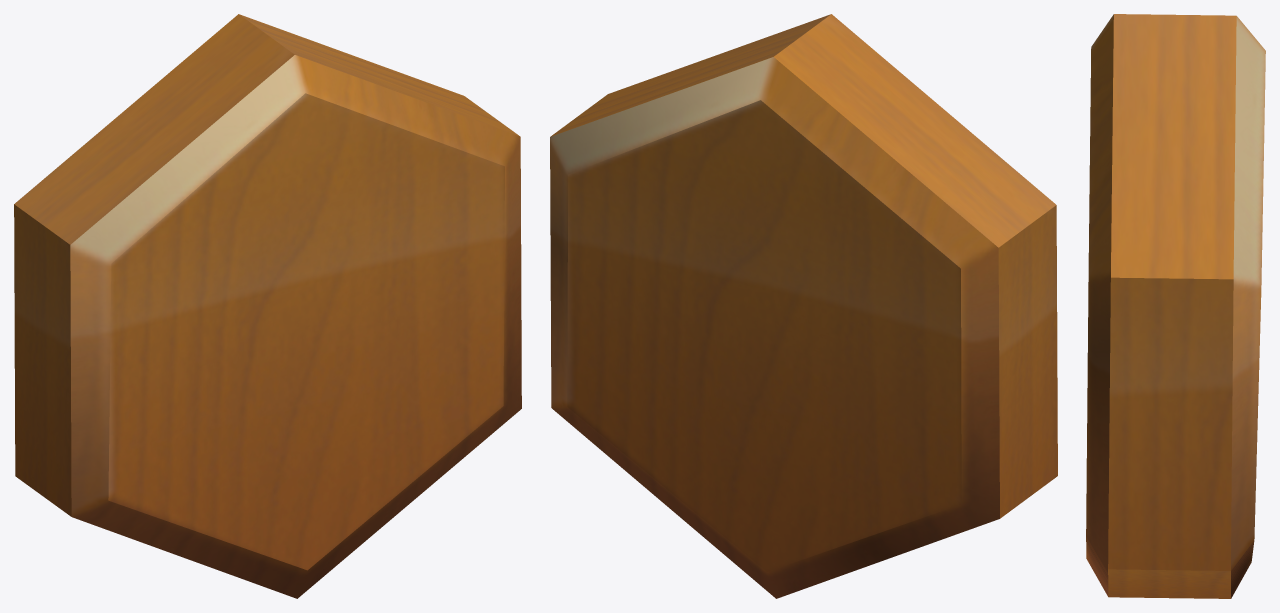
The model's file is Hex2_Dark.fbx.
3 views of the same model, side by side, from view 1: azimuth 30°, elevation 25°; view 2: azimuth 150°, elevation 25°; view 3: azimuth 270°, elevation 25° (orthographic). The views are drawn at different scales.
Parts seen in each view (by area): view 1: polySurface4; view 2: polySurface4; view 3: polySurface4.
Boxes of the visible parts, box(x1,y1,x2,y2) form: polySurface4: box(14, 14, 521, 598); polySurface4: box(550, 14, 1057, 598); polySurface4: box(1086, 14, 1265, 598).
Size of the model in its own units: 1.73 by 1.99 by 0.5553.
1 material, 1 textured.
